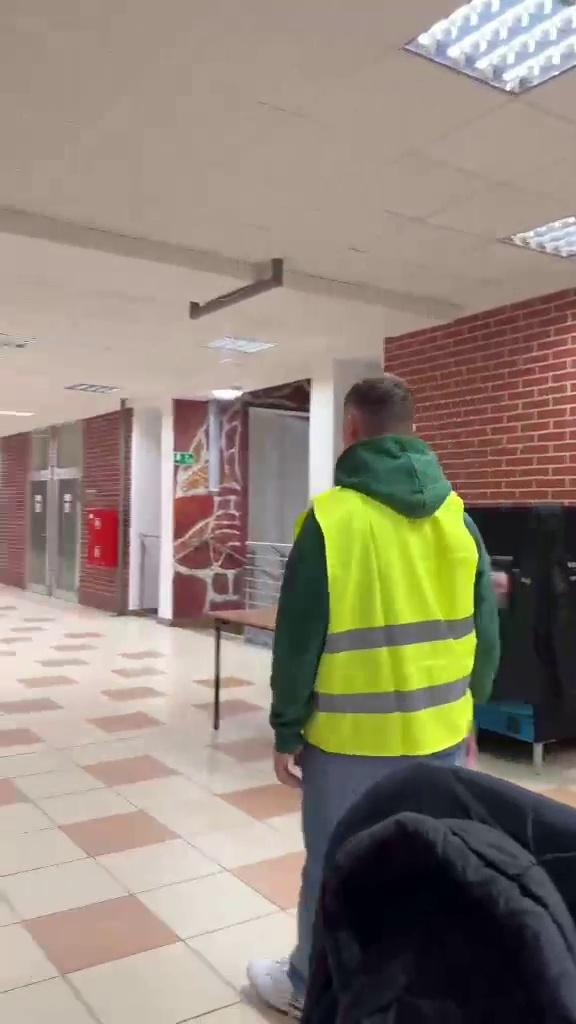vest: (268, 374, 495, 1012)
